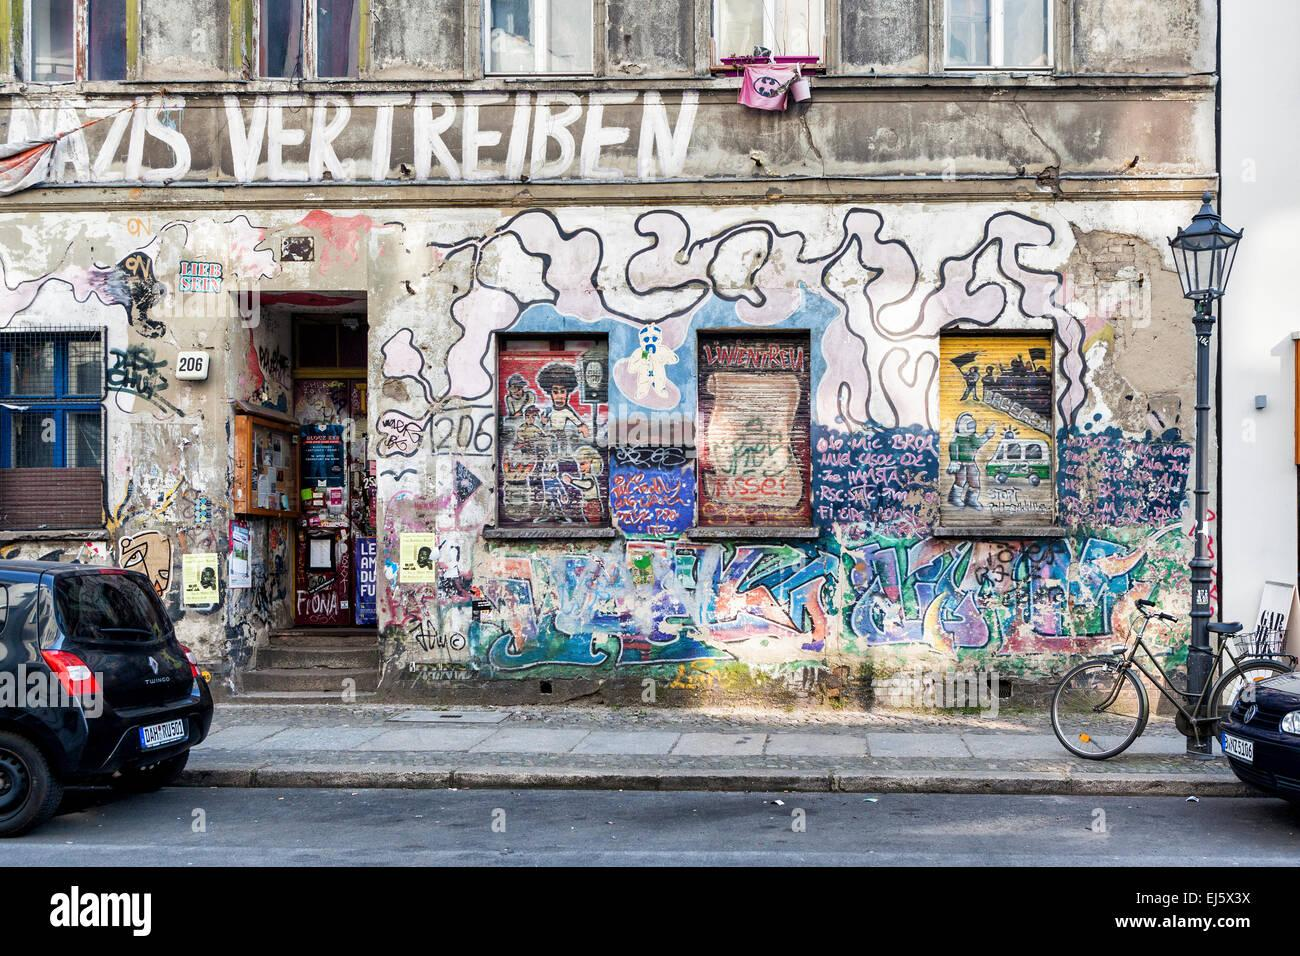graffiti: (368, 219, 1190, 726), (4, 92, 701, 182), (7, 230, 161, 328), (225, 529, 307, 664), (119, 525, 204, 603), (96, 343, 185, 408), (239, 343, 301, 414), (178, 264, 233, 295)
